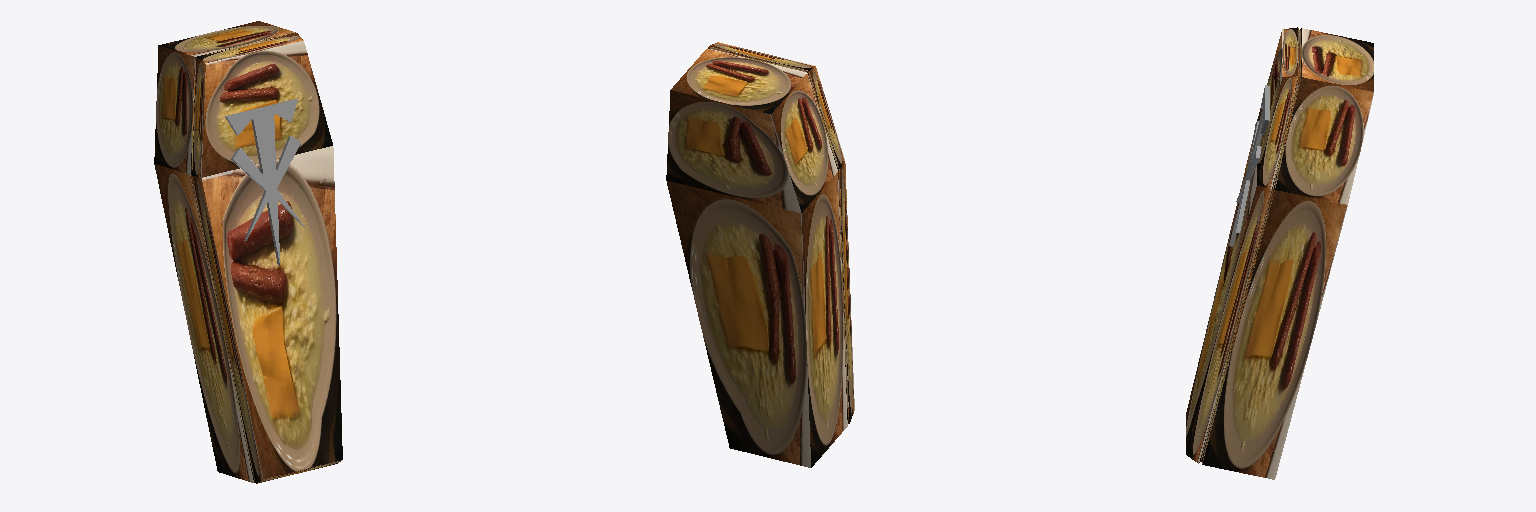
3 renders of one model, left to right at view 1: azimuth 30°, elevation 25°; view 2: azimuth 150°, elevation 25°; view 3: azimuth 270°, elevation 25°, orthographic.
Parts seen in each view (by area): view 1: coffin_Cube.002_Material.003, symbol_Cube.001; view 2: coffin_Cube.002_Material.003; view 3: coffin_Cube.002_Material.003, symbol_Cube.001.
Part boxes in pixels (bbox=[...]): coffin_Cube.002_Material.003: bbox=[154, 21, 342, 483]; symbol_Cube.001: bbox=[225, 99, 304, 265]; coffin_Cube.002_Material.003: bbox=[666, 42, 854, 467]; coffin_Cube.002_Material.003: bbox=[1186, 27, 1373, 479]; symbol_Cube.001: bbox=[1229, 85, 1269, 246].
Size of the model in its own units: 2.69 by 7.75 by 3.25.
Materials: 2 (1 with a texture image).